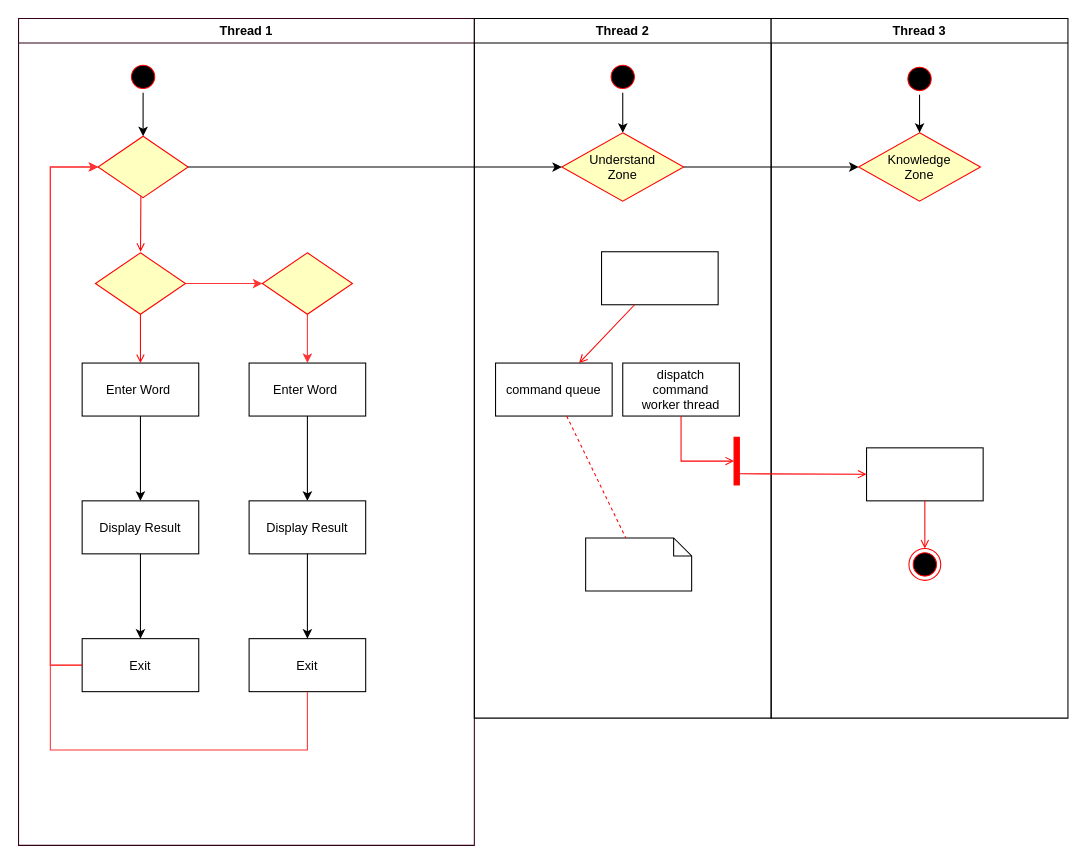
This 1087x864 diagram has some shape labels left out. Here are the shapes that lost their labels. From the top down, the centre of each, then its label:
At pixel 142 166: "Find Zone".
At pixel 140 283: "Find Synonym".
At pixel 306 283: "Find Antonym".
At pixel 659 278: "check for new commands".
At pixel 924 474: "process command".
At pixel 638 564: "critical section".
